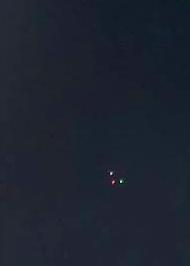Plane: (101, 161, 131, 195)
